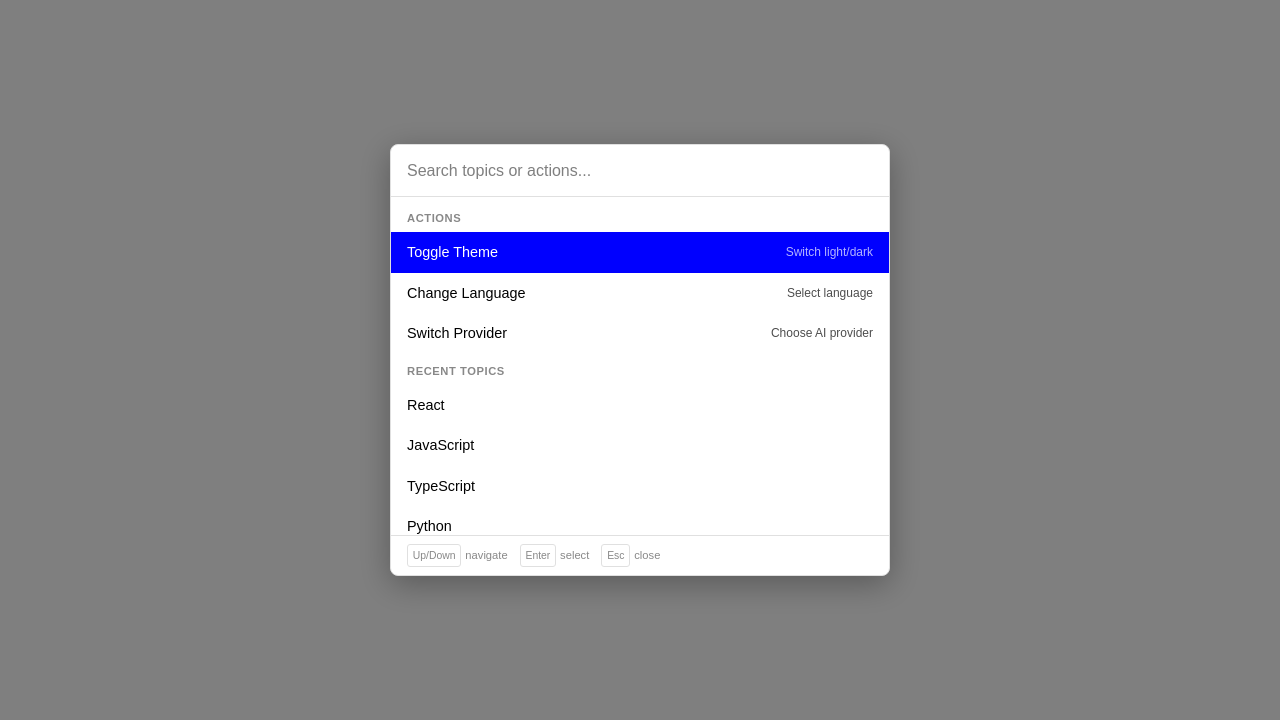
Scenario: CommandPalette › shows empty state when no results match
Type "xyznonexistent" into the field with test id "command-palette-input" at (640, 171), box [391,145,889,197]
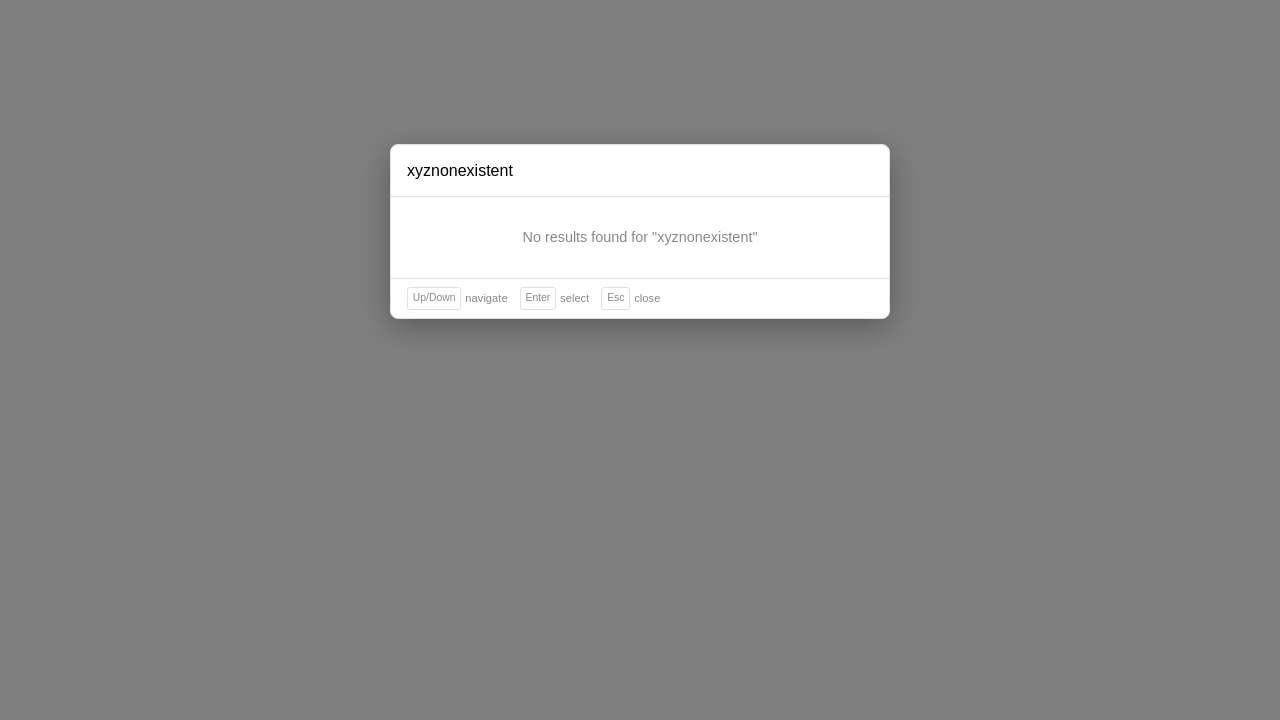
Now the text "No results found for \"xyznonexistent\"" is shown, box [522,229,758,245]
